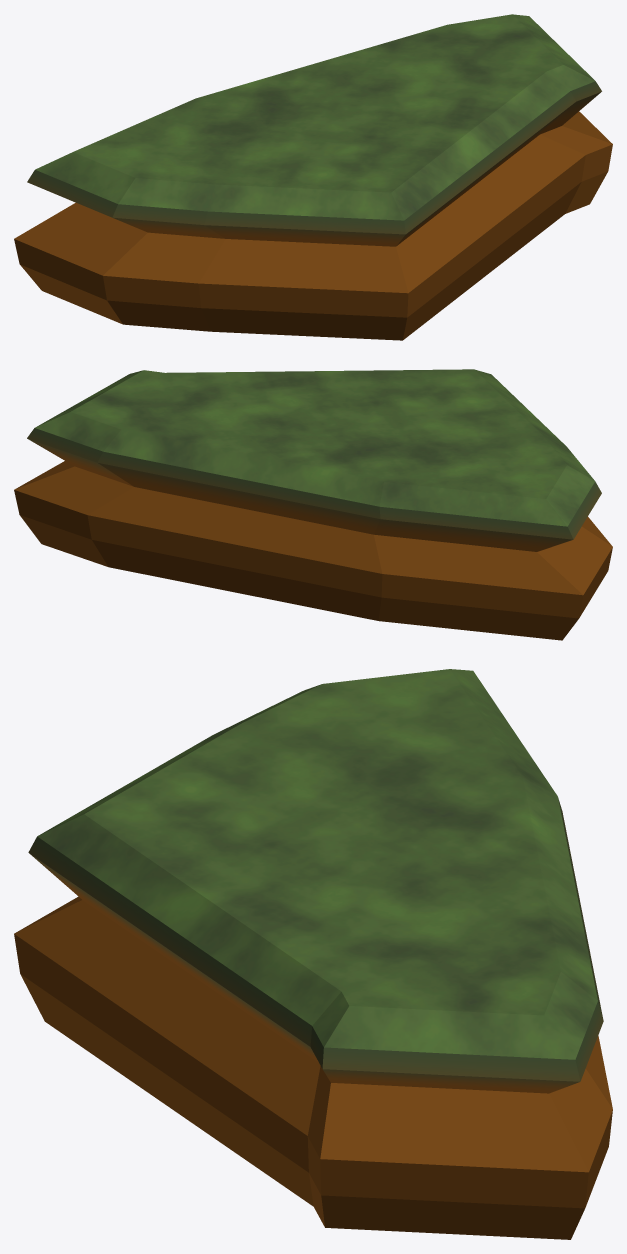
File: E4_Terreno_Lvl1_T.fbx
The picture shows the model from 3 angles, top to bottom: view 1: azimuth 30°, elevation 25°; view 2: azimuth 150°, elevation 25°; view 3: azimuth 270°, elevation 25°; orthographic projection. The views are drawn at different scales.
Visible parts, largest first — view 1: E4_modelosBlockout_nivel1; view 2: E4_modelosBlockout_nivel1; view 3: E4_modelosBlockout_nivel1.
Part boxes in pixels (bbox=[...]): E4_modelosBlockout_nivel1: bbox=[14, 14, 612, 340]; E4_modelosBlockout_nivel1: bbox=[14, 369, 612, 640]; E4_modelosBlockout_nivel1: bbox=[14, 669, 612, 1239].
Size of the model in its own units: 6400 by 1498 by 3899.
